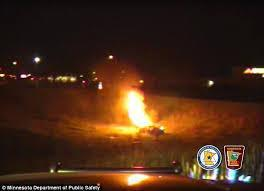fire: (103, 80, 165, 137)
